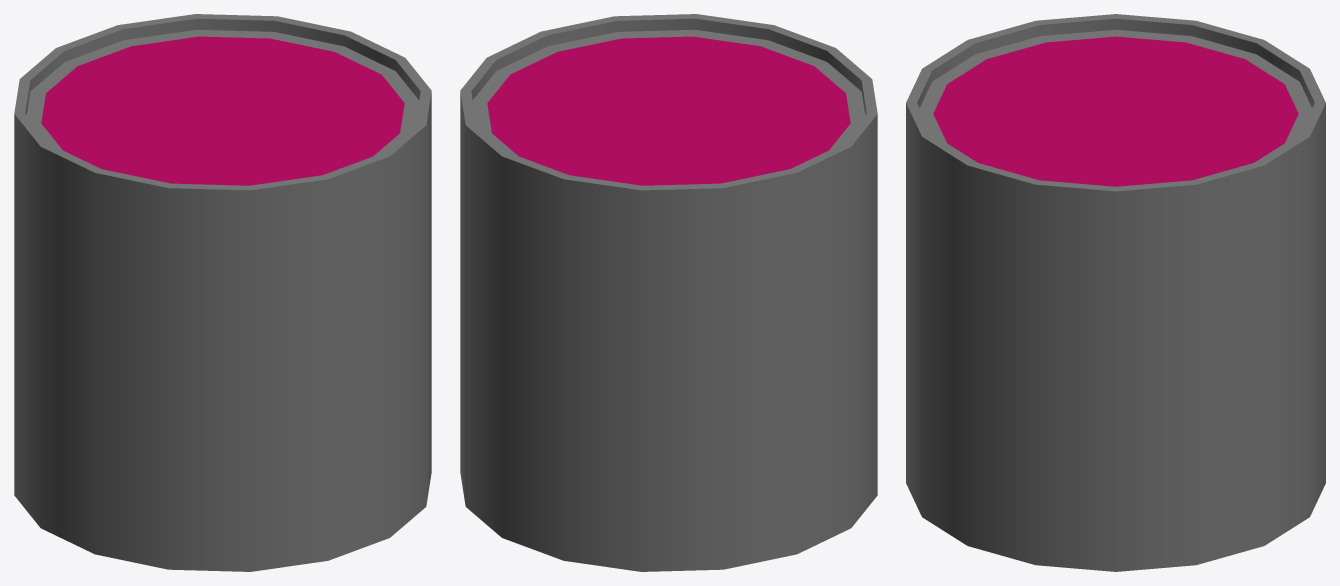
Rendered from PaintCan.fbx.
3 renders of one model, left to right at view 1: azimuth 30°, elevation 25°; view 2: azimuth 150°, elevation 25°; view 3: azimuth 270°, elevation 25°, orthographic.
Visible parts, largest first — view 1: PaintCan; view 2: PaintCan; view 3: PaintCan.
Part boxes in pixels (left/top/right/bottom): PaintCan: left=14, top=14, right=431, bottom=571; PaintCan: left=460, top=14, right=877, bottom=571; PaintCan: left=906, top=14, right=1325, bottom=571.
Size of the model in its own units: 0.4037 by 0.4037 by 0.4037.
